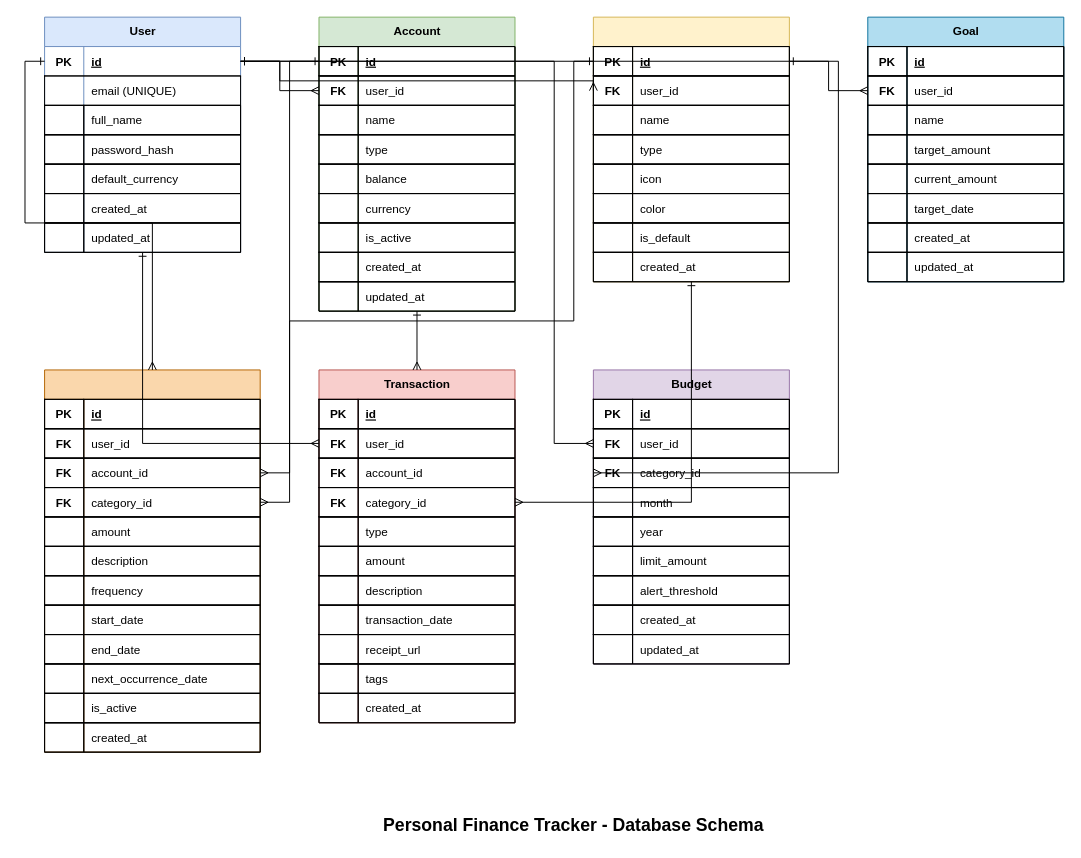
The diagram is 1081 pixels wide and 858 high, and some of its shapes have lost their labels. The box of each missing label's shape, as (x1, y1, x2, y2) in pixels:
Category: (592, 16, 789, 282)
RecurringTransaction: (44, 369, 260, 752)
